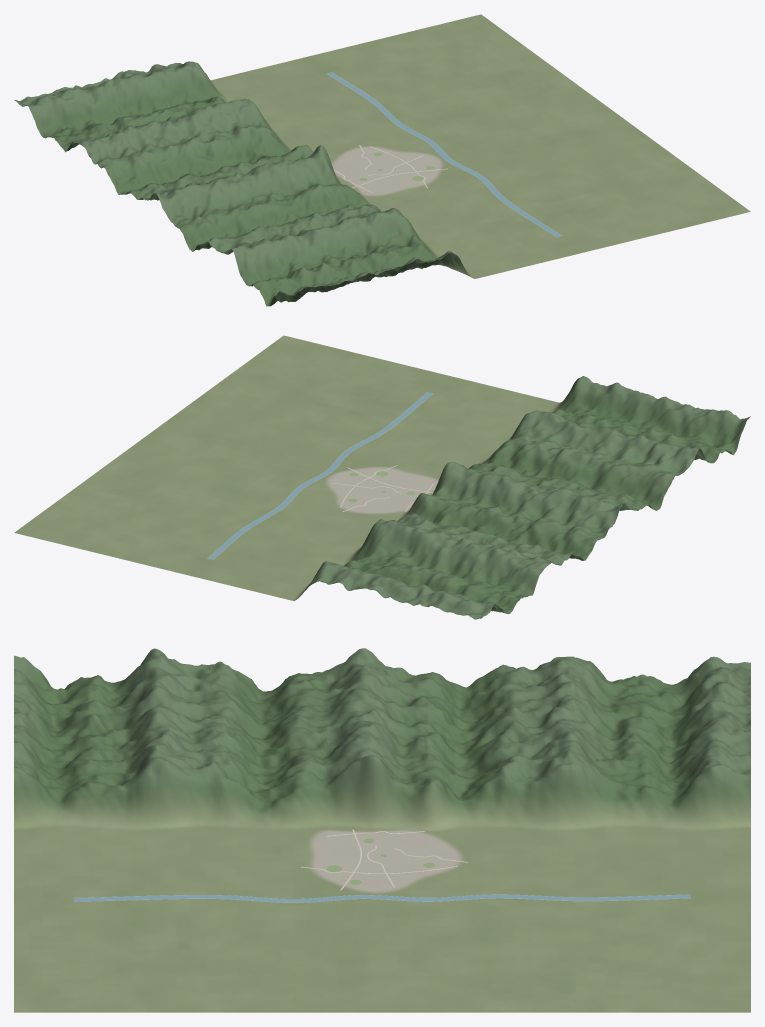
Rendered from terreno_cali.fbx.
The picture shows the model from 3 angles, top to bottom: view 1: azimuth 30°, elevation 25°; view 2: azimuth 150°, elevation 25°; view 3: azimuth 270°, elevation 25°; orthographic projection. The views are drawn at different scales.
Visible parts, largest first — view 1: terreno, rio_agua; view 2: terreno, rio_agua; view 3: terreno, rio_agua, rio_orillas, avenidas.
Boxes of the visible parts, x1=… form: terreno: x1=14, y1=14, x2=750, y2=306; rio_agua: x1=327, y1=72, x2=561, y2=237; terreno: x1=14, y1=335, x2=750, y2=619; rio_agua: x1=207, y1=392, x2=432, y2=559; terreno: x1=14, y1=648, x2=750, y2=1012; rio_agua: x1=74, y1=894, x2=690, y2=902; rio_orillas: x1=74, y1=894, x2=690, y2=902; avenidas: x1=301, y1=829, x2=468, y2=890.
Size of the model in its own units: 110000 by 9526 by 110000.
